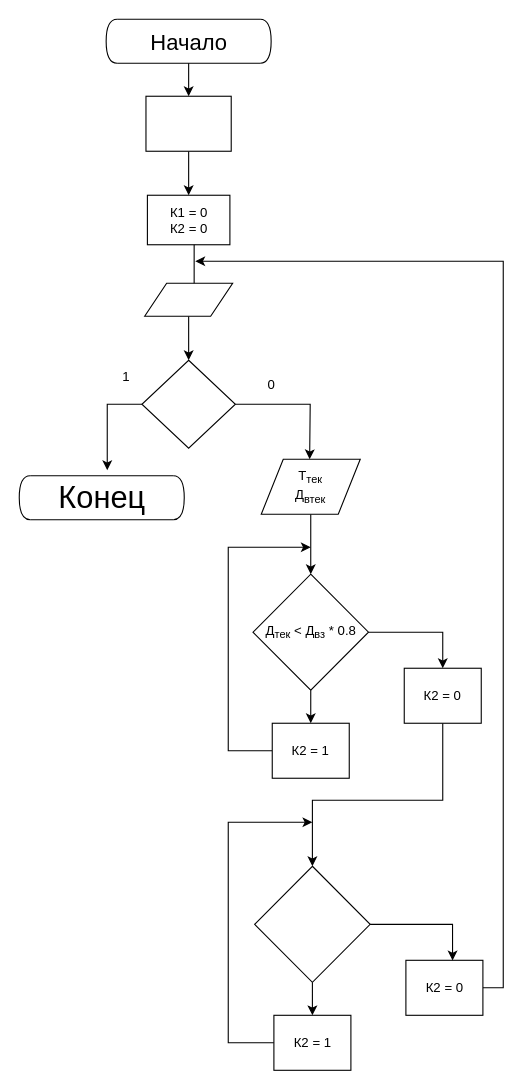
Some shapes in this 531 by 1090 pixel diagram are drawn without their labels. Here are the shapes that lost their labels. From the top down, the centre of each, then its label:
At point (188, 123): "T з = 60 Д вз = 10000".
At point (188, 299): "ВЫКЛ".
At point (188, 403): "ВЫКЛ = 1".
At point (312, 923): "Т тек < Т з".
